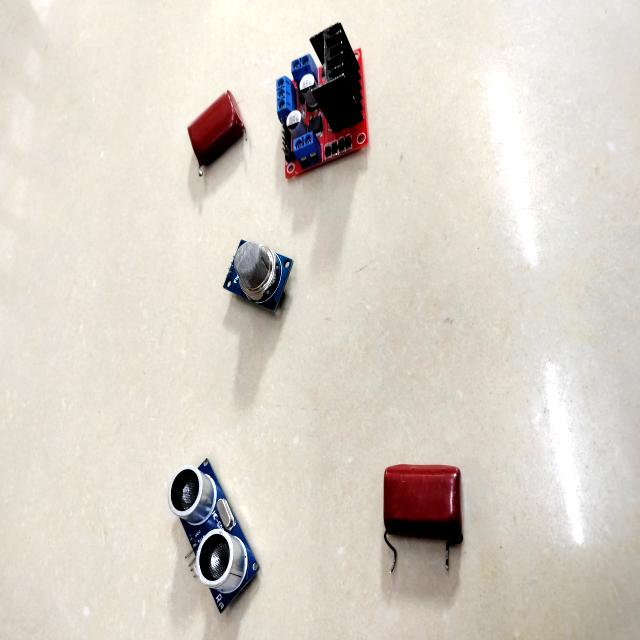capacitor: (383, 464, 464, 561), (188, 94, 244, 165)
